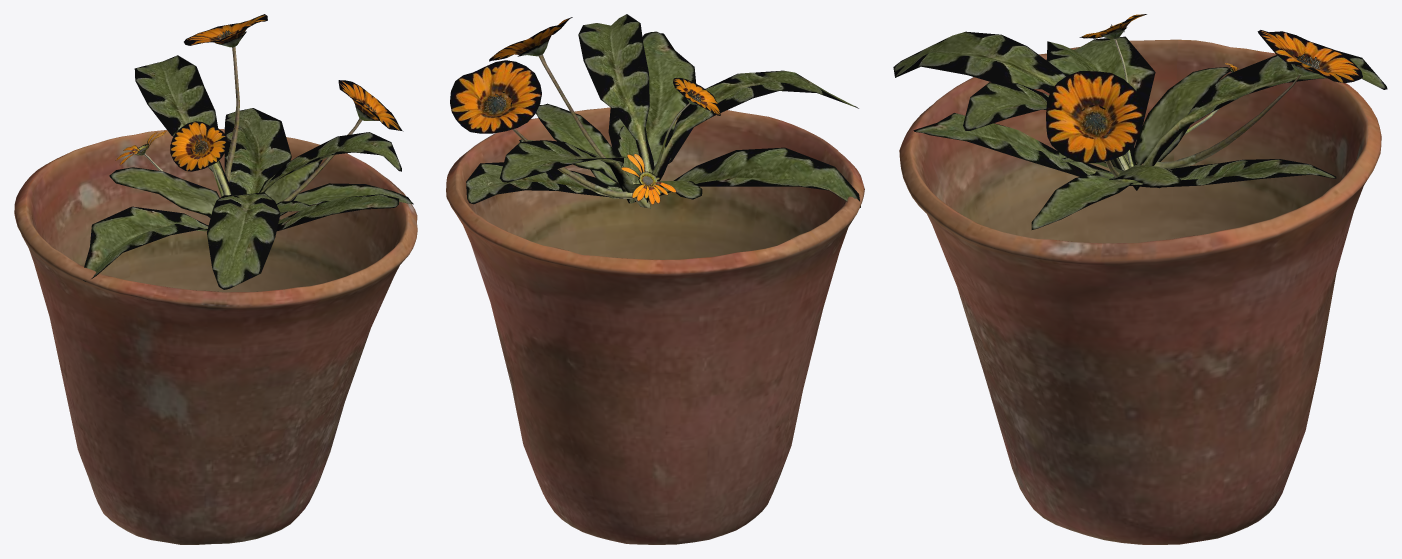
File: plant-gazania.glb
The picture shows the model from 3 angles, left to right: view 1: azimuth 30°, elevation 25°; view 2: azimuth 150°, elevation 25°; view 3: azimuth 270°, elevation 25°; orthographic projection. The views are drawn at different scales.
Visible parts, largest first — view 1: planter_pot_clay, flower_gazania_g_LOD0; view 2: planter_pot_clay, flower_gazania_g_LOD0; view 3: planter_pot_clay, flower_gazania_g_LOD0.
Boxes of the visible parts, x1,y1,x2,y2 form: planter_pot_clay: [14, 128, 417, 544]; flower_gazania_g_LOD0: [83, 14, 413, 289]; planter_pot_clay: [446, 107, 864, 544]; flower_gazania_g_LOD0: [450, 14, 860, 208]; planter_pot_clay: [899, 39, 1381, 544]; flower_gazania_g_LOD0: [893, 14, 1387, 229].
Size of the model in its own units: 0.266 by 0.3115 by 0.27.
2 materials, 2 textured.
